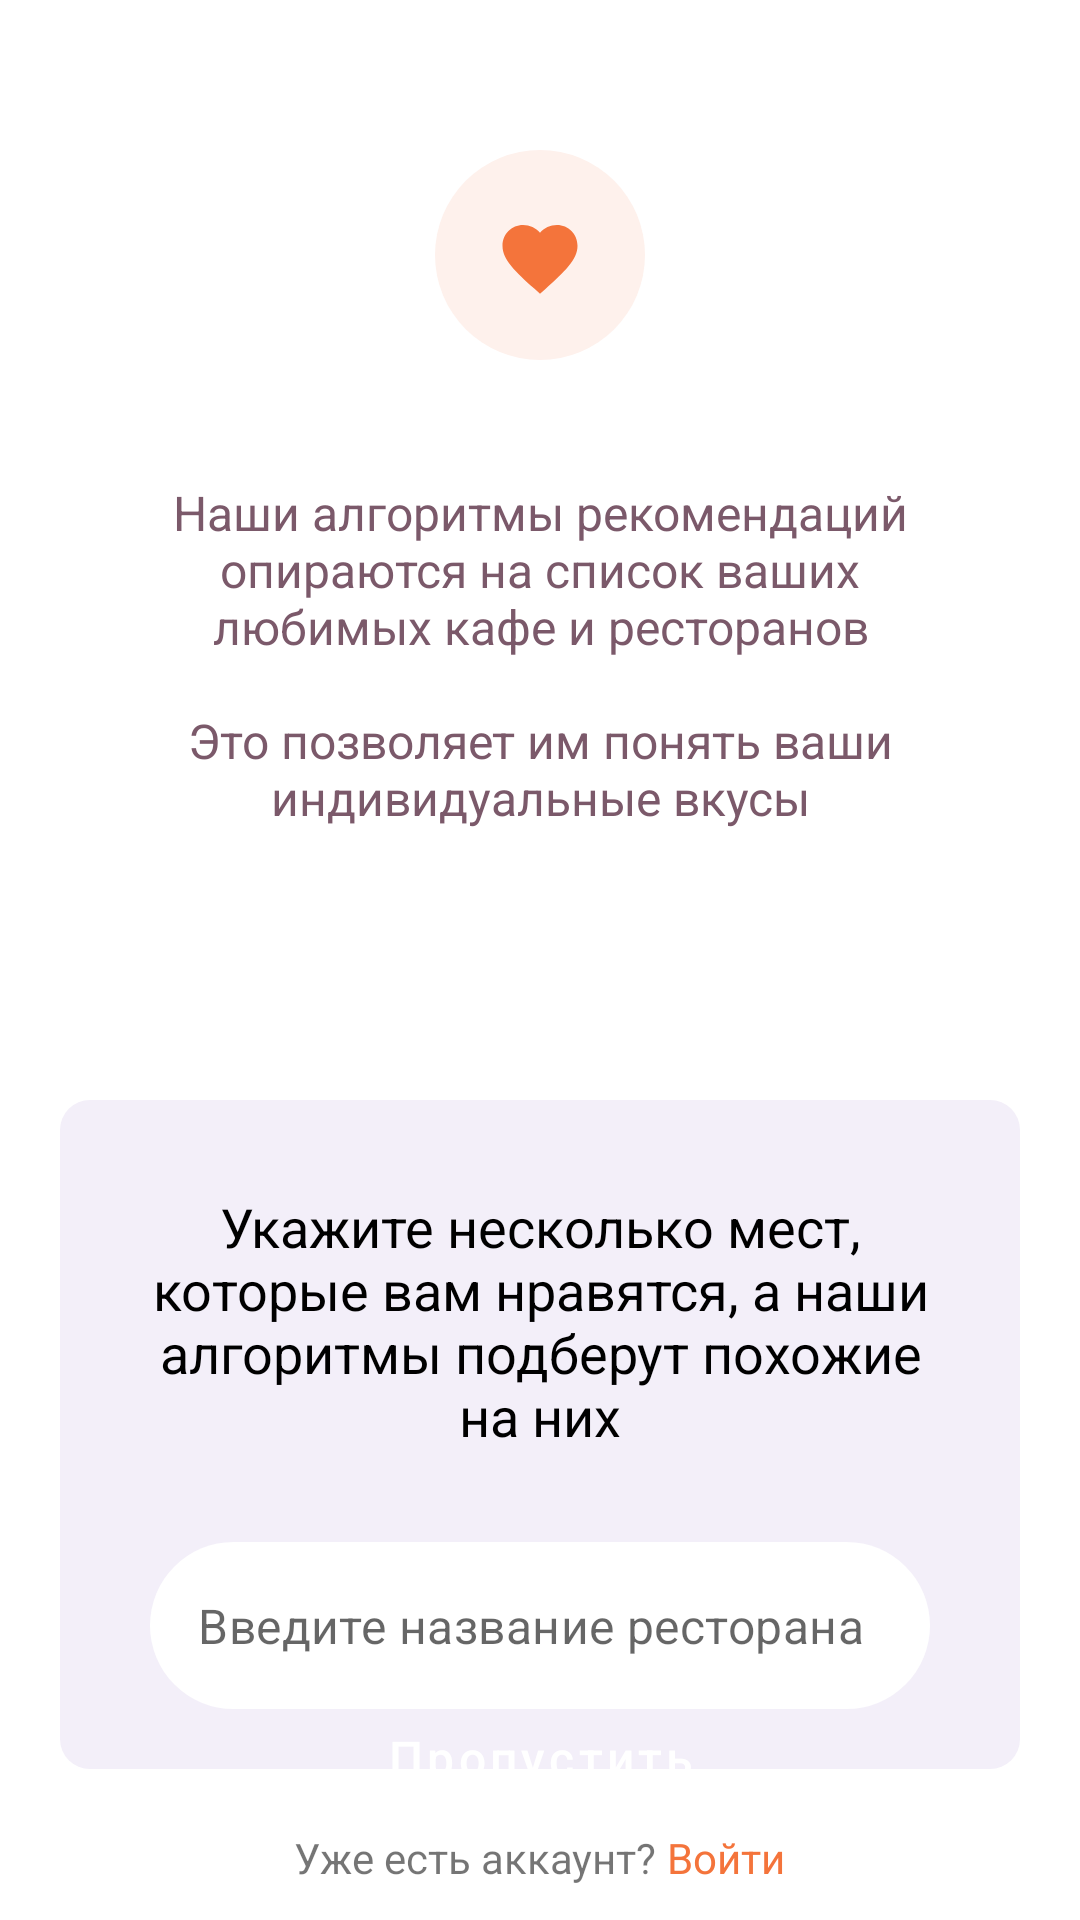

Icons on this 1080px x 1920px Android screen, each with its box as (x1, y1, x2, y2):
favorite: (502, 225, 578, 294)
